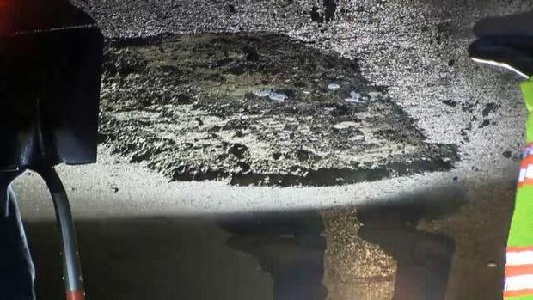pothole: (65, 33, 464, 191)
